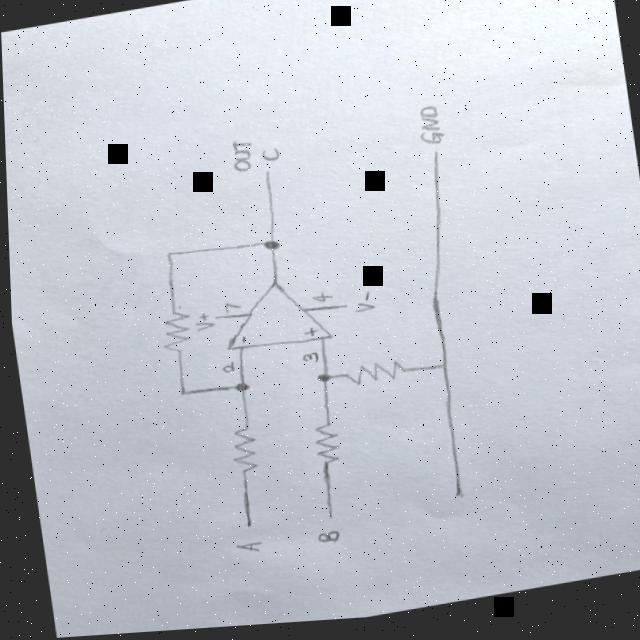junction: (299, 372, 335, 396), (250, 236, 282, 261), (152, 245, 182, 269), (220, 379, 251, 401), (426, 360, 454, 384), (163, 386, 192, 408)
resistor: (334, 360, 405, 394), (151, 310, 191, 365), (221, 427, 258, 483), (304, 423, 341, 474)
terminal: (437, 483, 466, 513), (420, 153, 448, 178), (312, 501, 336, 528), (231, 509, 253, 536), (257, 168, 275, 190)
text: (408, 107, 449, 155), (223, 138, 254, 181), (305, 532, 340, 554), (226, 541, 258, 561), (255, 147, 281, 168), (290, 352, 317, 371), (346, 305, 373, 324), (215, 302, 241, 319), (306, 295, 332, 312), (189, 322, 211, 337), (295, 329, 316, 344), (214, 363, 232, 379), (356, 293, 371, 308), (190, 313, 206, 326), (233, 336, 247, 349)
